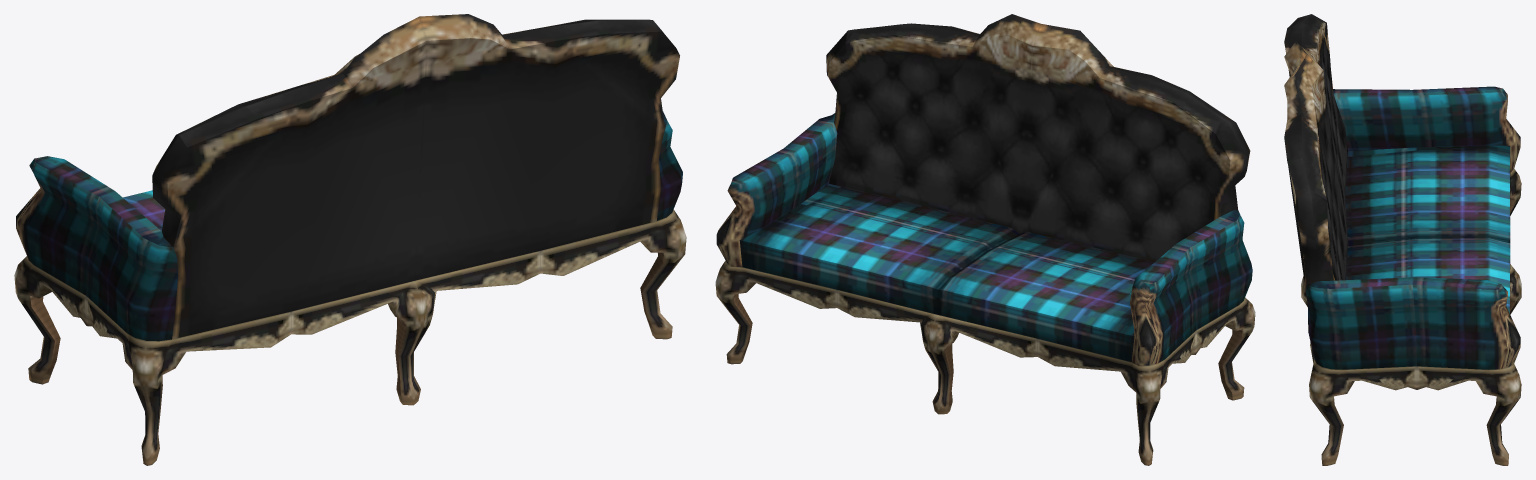
The model's file is furni_0200311_02.FBX.
The picture shows the model from 3 angles, left to right: view 1: azimuth 30°, elevation 25°; view 2: azimuth 150°, elevation 25°; view 3: azimuth 270°, elevation 25°; orthographic projection. The views are drawn at different scales.
Visible parts, largest first — view 1: furni_0200311_02; view 2: furni_0200311_02; view 3: furni_0200311_02.
Boxes of the visible parts, <box> form: furni_0200311_02: <box>14,14,686,465</box>; furni_0200311_02: <box>715,14,1255,465</box>; furni_0200311_02: <box>1284,14,1521,465</box>.
Bounding box in the file's own units: 158 × 108 × 74.98.
